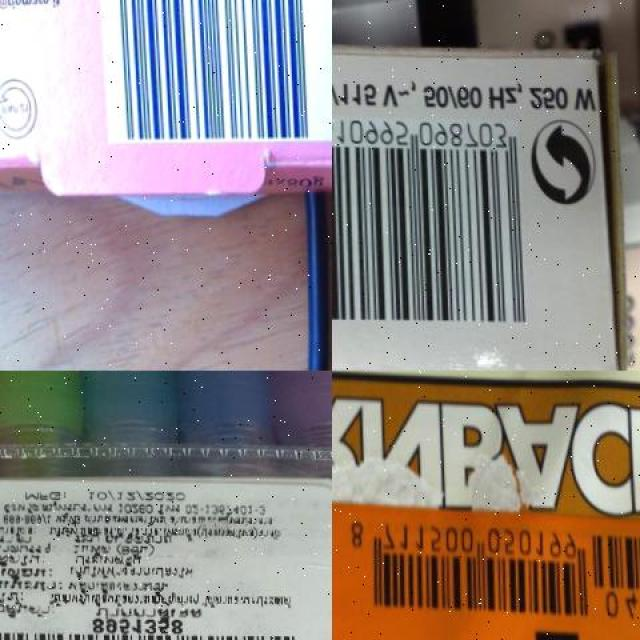Barcode: (332, 109, 531, 335), (96, 0, 332, 148), (334, 516, 591, 627), (0, 616, 301, 640)
